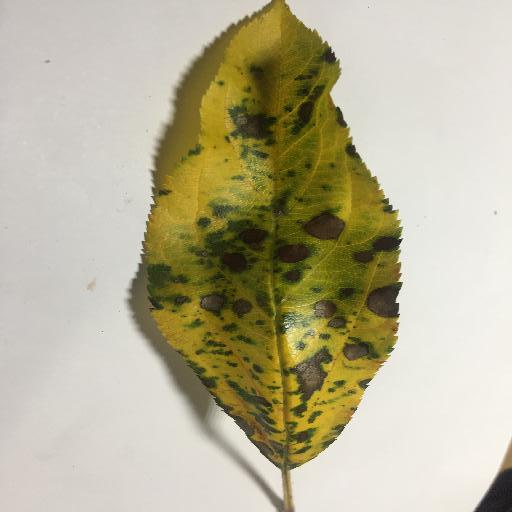Brown_Spot: (359, 291, 407, 313), (337, 336, 372, 366), (307, 299, 342, 325), (356, 245, 400, 264), (299, 359, 323, 392), (305, 221, 343, 239), (219, 252, 250, 274), (276, 241, 308, 261), (308, 220, 335, 241), (243, 228, 272, 245), (203, 297, 223, 312)
